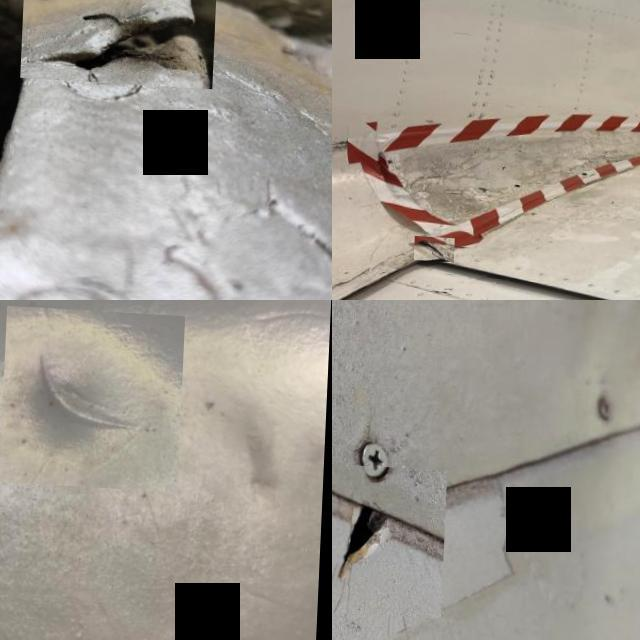Crack: (332, 458, 449, 613), (23, 0, 218, 84), (419, 234, 460, 260), (332, 139, 353, 157)
Dent: (3, 302, 187, 486)
